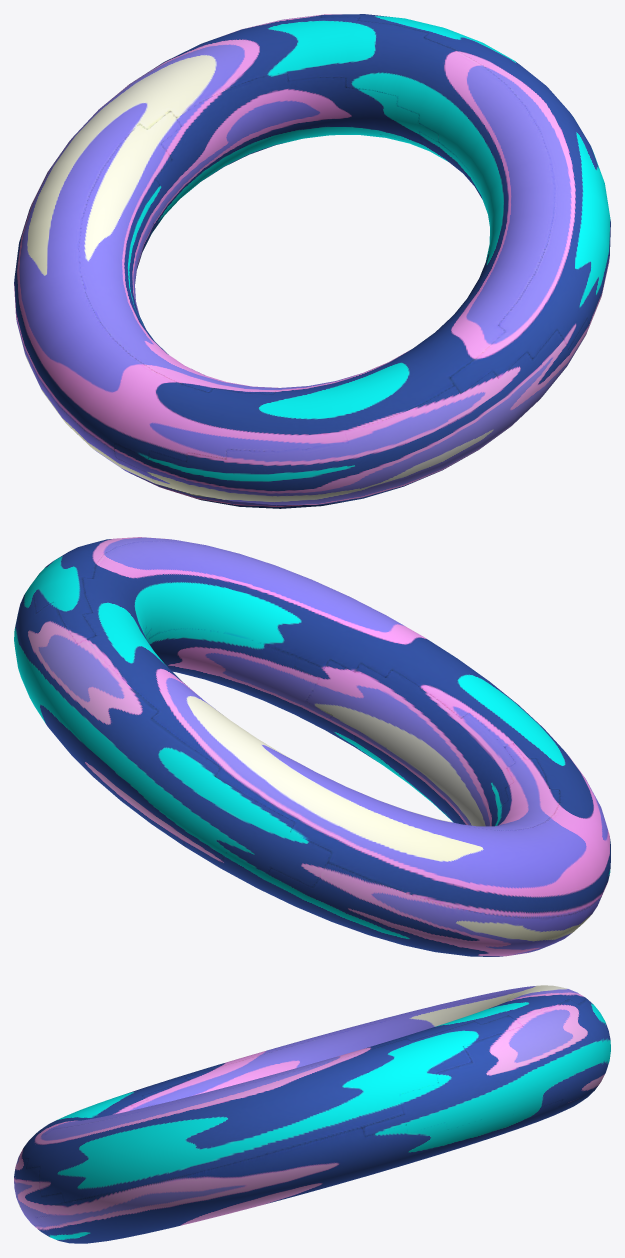
The picture shows the model from 3 angles, top to bottom: view 1: azimuth 30°, elevation 25°; view 2: azimuth 150°, elevation 25°; view 3: azimuth 270°, elevation 25°; orthographic projection. The views are drawn at different scales.
Parts seen in each view (by area): view 1: Torus.001; view 2: Torus.001; view 3: Torus.001.
Part boxes in pixels (x1,y1,x2,y2): Torus.001: (14,14,610,508); Torus.001: (14,537,610,956); Torus.001: (14,985,610,1243).
Size of the model in its own units: 2.36 by 1.4 by 2.42.
Materials: 1 (1 with a texture image).
